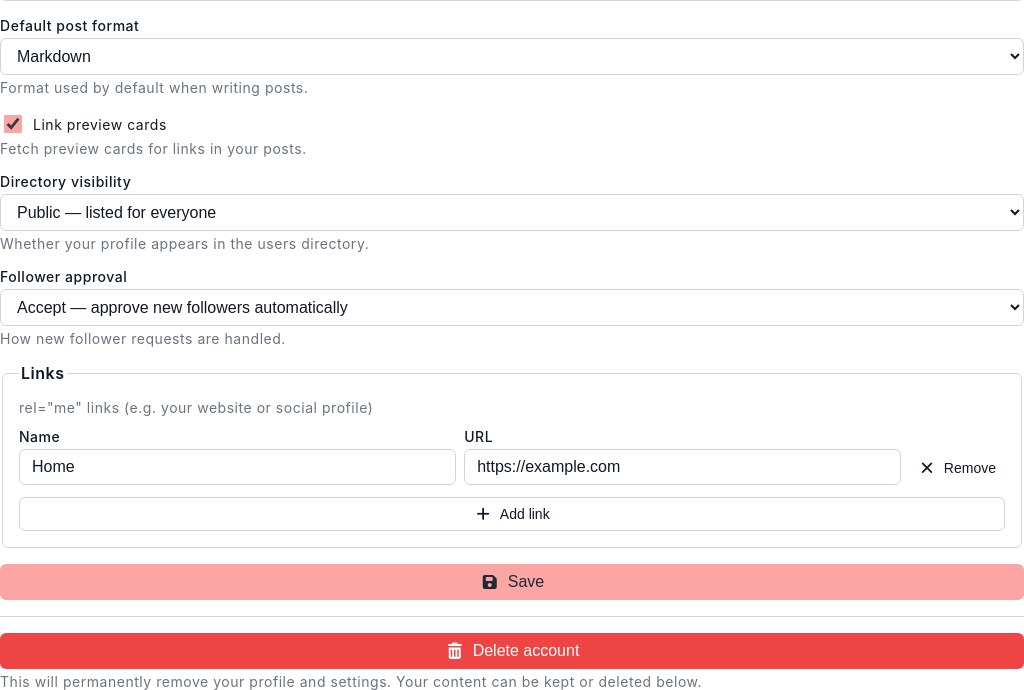
Scenario: ProfileTab › shows an error when the delete confirmation text does not match
(page scrolled)
Click the button "Delete account" at (512, 651), box x1=0 y1=633 x2=1023 y2=669
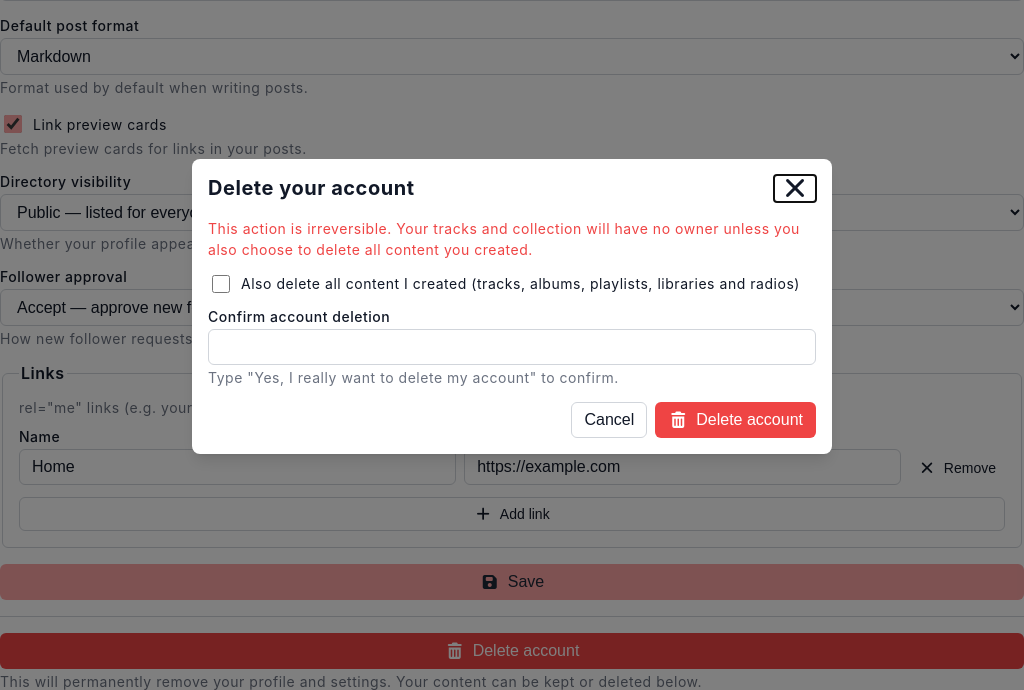
Now the button "Delete account" is shown
Click the button "Delete account" at (736, 420), box x1=655 y1=402 x2=816 y2=438
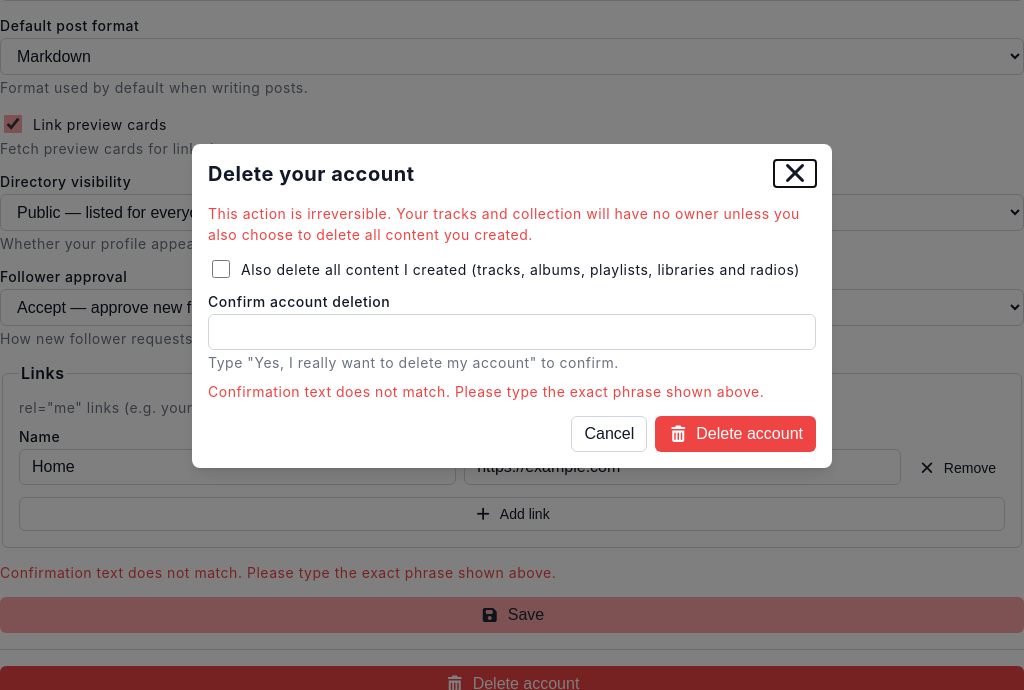
Now the text "Confirmation text does not match. Please type the exact phrase shown above." is shown, box x1=0 y1=564 x2=556 y2=581
